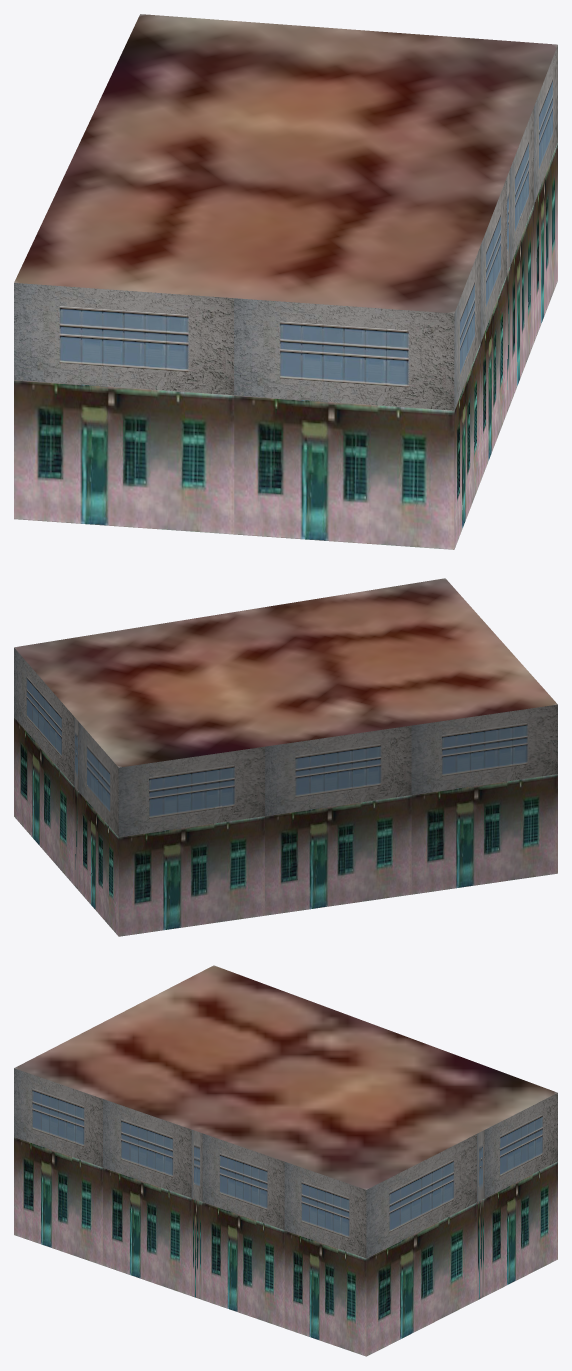
Rendered from T_1T93L4PHBG.dae.
3 renders of one model, top to bottom at view 1: azimuth 30°, elevation 25°; view 2: azimuth 150°, elevation 25°; view 3: azimuth 270°, elevation 25°, orthographic. The views are drawn at different scales.
Visible parts, largest first — view 1: SketchUp (×7); view 2: SketchUp (×8); view 3: SketchUp (×13).
Boxes of the visible parts, x1=… form: SketchUp (×7): x1=14, y1=14, x2=557, y2=549; SketchUp (×8): x1=14, y1=578, x2=557, y2=936; SketchUp (×13): x1=14, y1=965, x2=557, y2=1356.
Size of the model in its own units: 16.17 by 16.56 by 5.6.
Materials: 3 (3 with a texture image).
